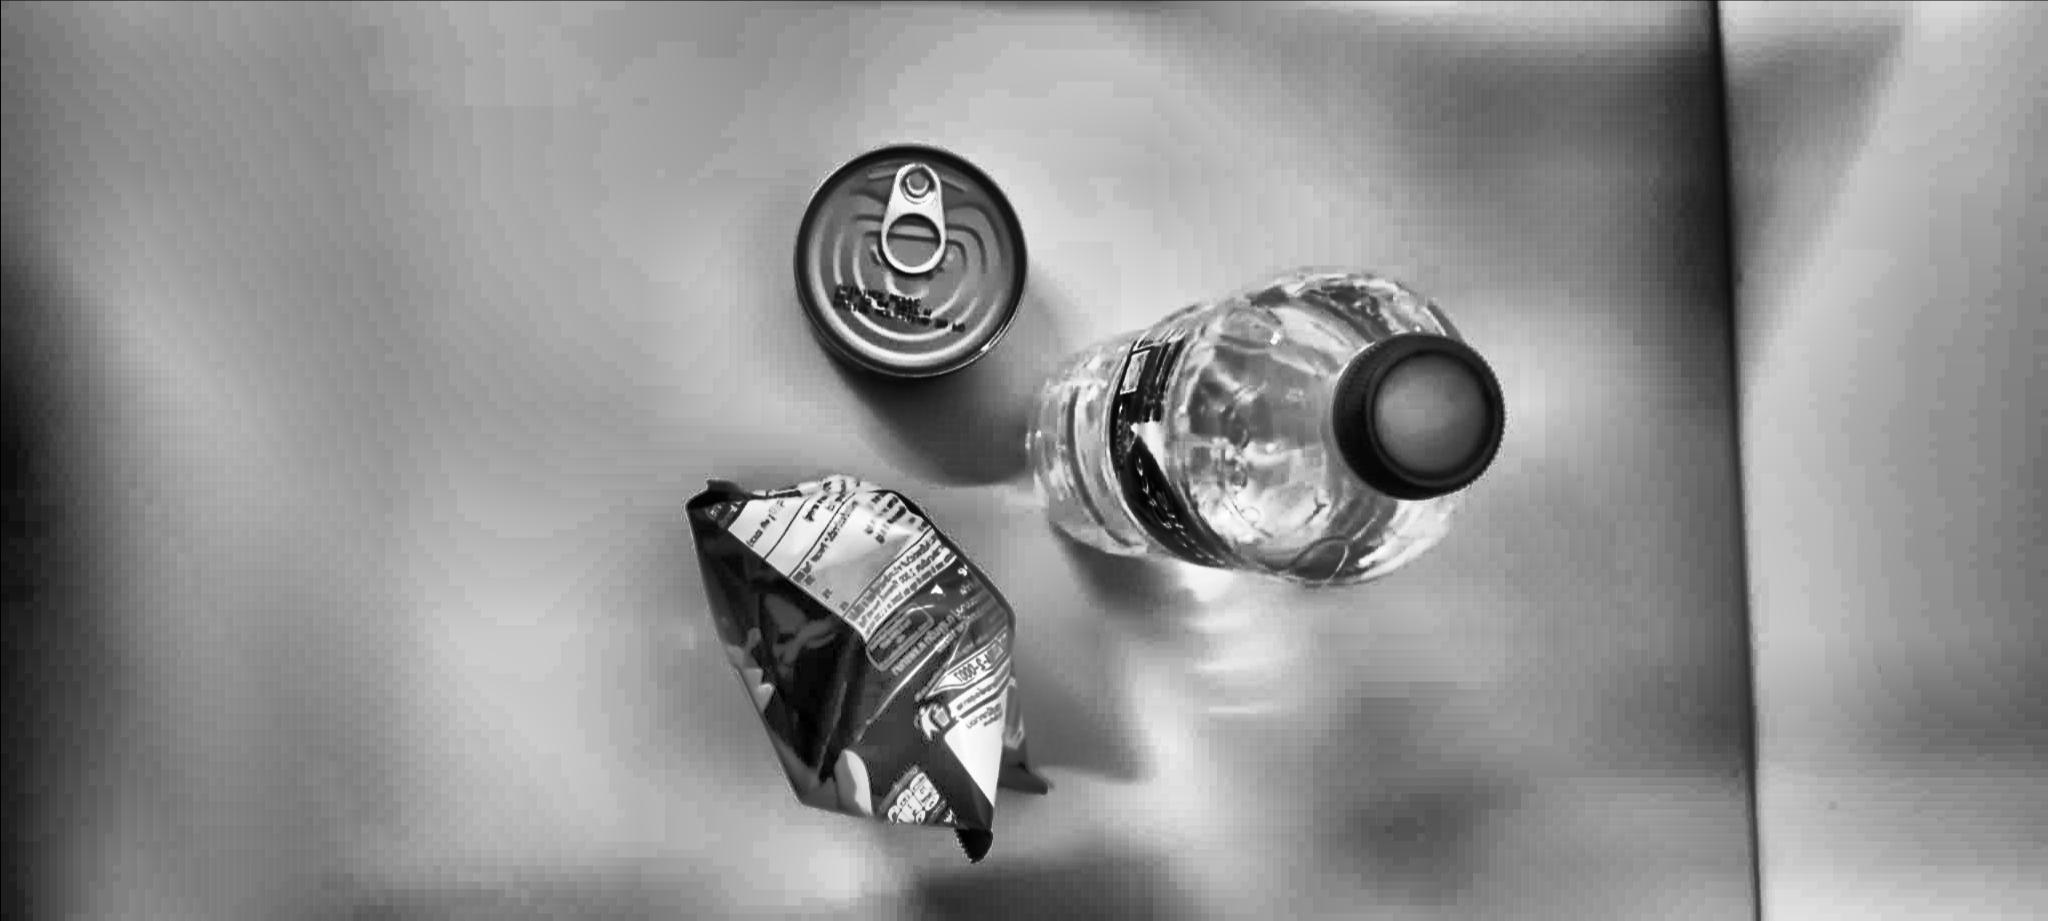can: (758, 126, 1044, 394)
snackbag: (630, 448, 1050, 880)
waterbottle: (1010, 268, 1540, 572)
